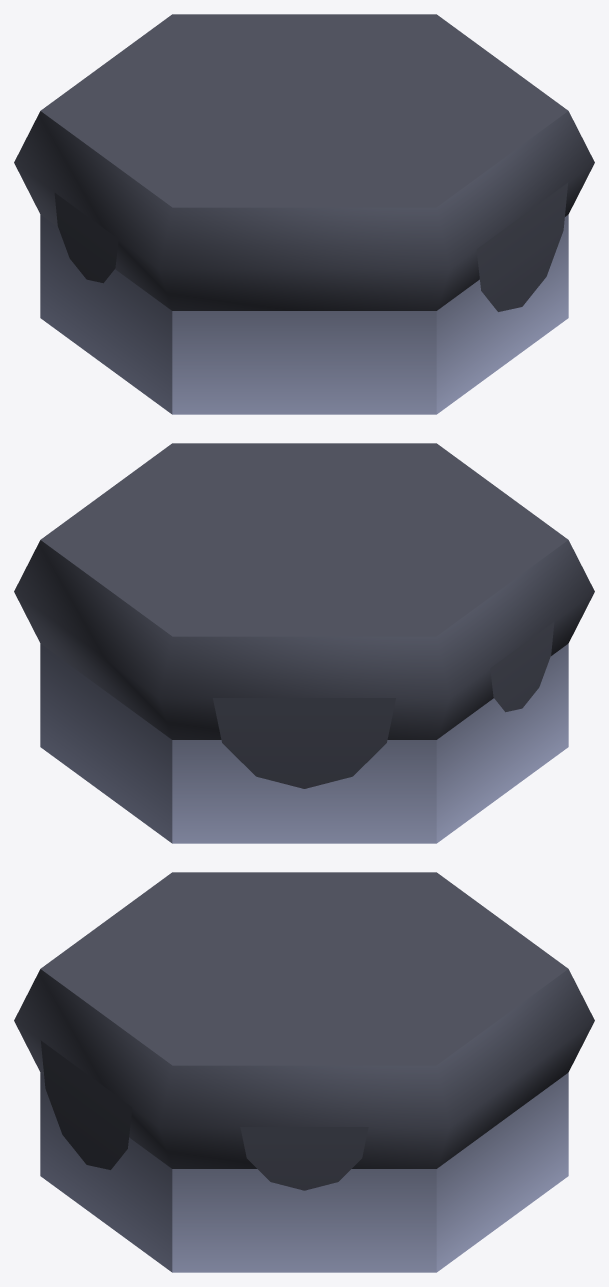
The model's file is block-snow-overhang-low-hexagon.glb.
3 renders of one model, top to bottom at view 1: azimuth 30°, elevation 25°; view 2: azimuth 150°, elevation 25°; view 3: azimuth 270°, elevation 25°, orthographic.
Parts seen in each view (by area): view 1: block-snow-overhang-low-hexagon; view 2: block-snow-overhang-low-hexagon; view 3: block-snow-overhang-low-hexagon.
Part boxes in pixels (left/top/right/bottom): block-snow-overhang-low-hexagon: left=14, top=14, right=594, bottom=414; block-snow-overhang-low-hexagon: left=14, top=443, right=594, bottom=843; block-snow-overhang-low-hexagon: left=14, top=872, right=594, bottom=1272.
Size of the model in its own units: 1.1 by 0.5 by 1.27.
